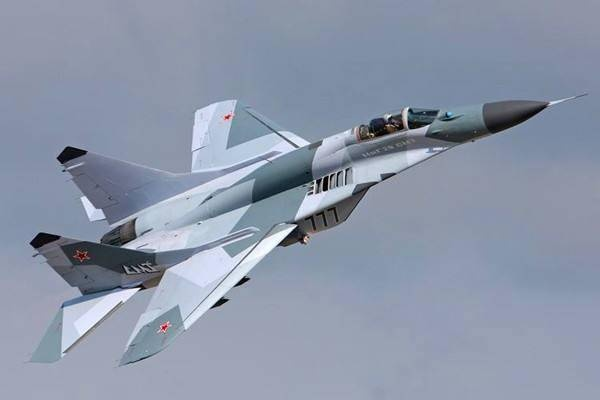airplane: (17, 84, 591, 371)
